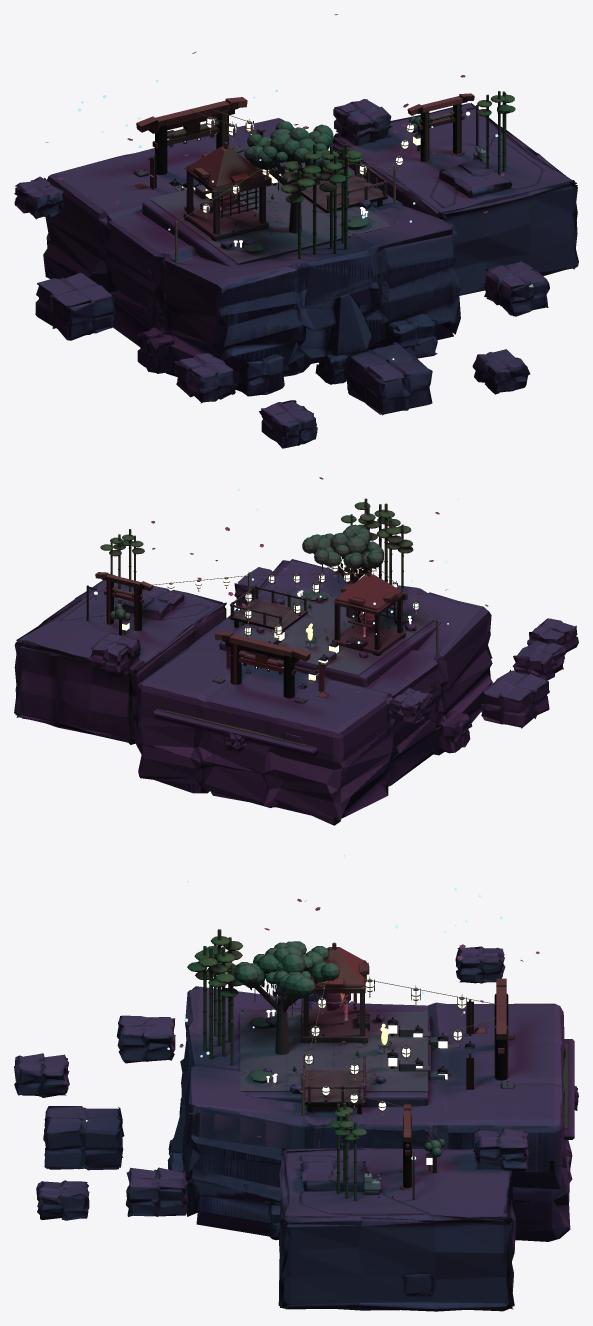
Rendered from landmark-contact.glb.
The picture shows the model from 3 angles, top to bottom: view 1: azimuth 30°, elevation 25°; view 2: azimuth 150°, elevation 25°; view 3: azimuth 270°, elevation 25°; orthographic projection. The views are drawn at different scales.
Parts seen in each view (by area): view 1: ctc_outcrop, ctc_satellite_rocks, ctc_twin_cliff, ctc_stone_path, ctc_pavilion, ctc_torii, ctc_bamboo, ctc_ema_foliage, ctc_release_deck, ctc_sky_lanterns; view 2: ctc_outcrop, ctc_twin_cliff, ctc_satellite_rocks, ctc_stone_path, ctc_torii, ctc_pavilion, ctc_bamboo, ctc_ema_foliage, ctc_release_deck, ctc_sky_lanterns, ctc_toro_lanterns; view 3: ctc_outcrop, ctc_twin_cliff, ctc_satellite_rocks, ctc_stone_path, ctc_bamboo, ctc_pavilion, ctc_ema_foliage, ctc_torii, ctc_release_deck, ctc_sky_lanterns, ctc_ema_tree, ctc_toro_lanterns.
Boxes of the visible parts, x1=… form: ctc_outcrop: x1=43, y1=118, x2=461, y2=396; ctc_satellite_rocks: x1=14, y1=99, x2=549, y2=448; ctc_twin_cliff: x1=331, y1=103, x2=578, y2=295; ctc_stone_path: x1=150, y1=162, x2=391, y2=263; ctc_pavilion: x1=183, y1=142, x2=271, y2=241; ctc_torii: x1=136, y1=93, x2=474, y2=174; ctc_bamboo: x1=281, y1=91, x2=515, y2=258; ctc_ema_foliage: x1=244, y1=121, x2=337, y2=172; ctc_release_deck: x1=301, y1=161, x2=387, y2=213; ctc_sky_lanterns: x1=174, y1=110, x2=414, y2=263; ctc_outcrop: x1=134, y1=559, x2=492, y2=825; ctc_twin_cliff: x1=14, y1=574, x2=226, y2=744; ctc_satellite_rocks: x1=89, y1=567, x2=578, y2=728; ctc_stone_path: x1=237, y1=587, x2=434, y2=684; ctc_torii: x1=95, y1=572, x2=310, y2=698; ctc_pavilion: x1=332, y1=570, x2=407, y2=655; ctc_bamboo: x1=100, y1=498, x2=413, y2=600; ctc_ema_foliage: x1=302, y1=524, x2=383, y2=569; ctc_release_deck: x1=229, y1=586, x2=307, y2=630; ctc_sky_lanterns: x1=152, y1=565, x2=438, y2=654; ctc_toro_lanterns: x1=122, y1=623, x2=339, y2=689; ctc_outcrop: x1=167, y1=986, x2=578, y2=1241; ctc_twin_cliff: x1=278, y1=1139, x2=515, y2=1311; ctc_satellite_rocks: x1=14, y1=946, x2=529, y2=1220; ctc_stone_path: x1=240, y1=1012, x2=459, y2=1091; ctc_bamboo: x1=187, y1=929, x2=367, y2=1200; ctc_pavilion: x1=300, y1=942, x2=369, y2=1042; ctc_ema_foliage: x1=233, y1=941, x2=339, y2=998; ctc_torii: x1=400, y1=978, x2=508, y2=1189; ctc_release_deck: x1=303, y1=1055, x2=365, y2=1114; ctc_sky_lanterns: x1=301, y1=948, x2=501, y2=1115; ctc_ema_tree: x1=255, y1=979, x2=318, y2=1054; ctc_toro_lanterns: x1=387, y1=1017, x2=474, y2=1164.
Size of the model in its own units: 30.16 by 13.81 by 27.05.
62 materials, 54 textured.
